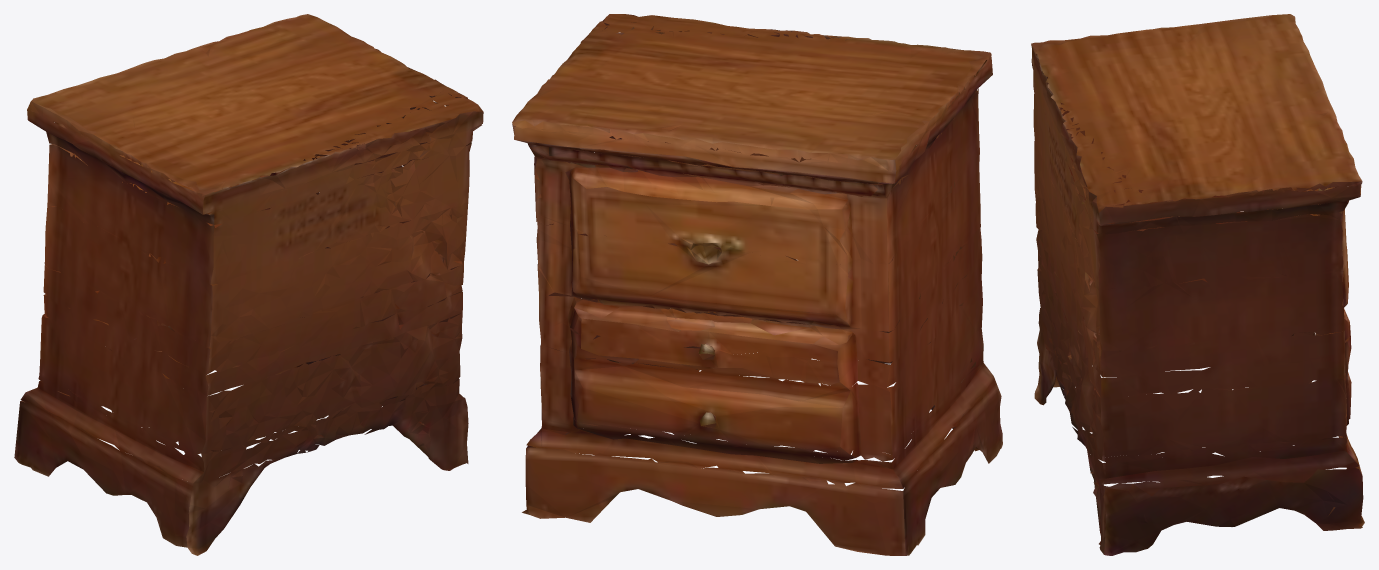
File: bedside-table.gltf
3 renders of one model, left to right at view 1: azimuth 30°, elevation 25°; view 2: azimuth 150°, elevation 25°; view 3: azimuth 270°, elevation 25°, orthographic. The views are drawn at different scales.
Parts seen in each view (by area): view 1: prop; view 2: prop; view 3: prop.
Boxes of the visible parts, x1,y1,x2,y2 form: prop: [14, 14, 483, 555]; prop: [512, 14, 1002, 555]; prop: [1031, 14, 1364, 555].
Bounding box in the file's own units: 0.6108 × 0.5986 × 0.4826.
Materials: 2 (1 with a texture image).
